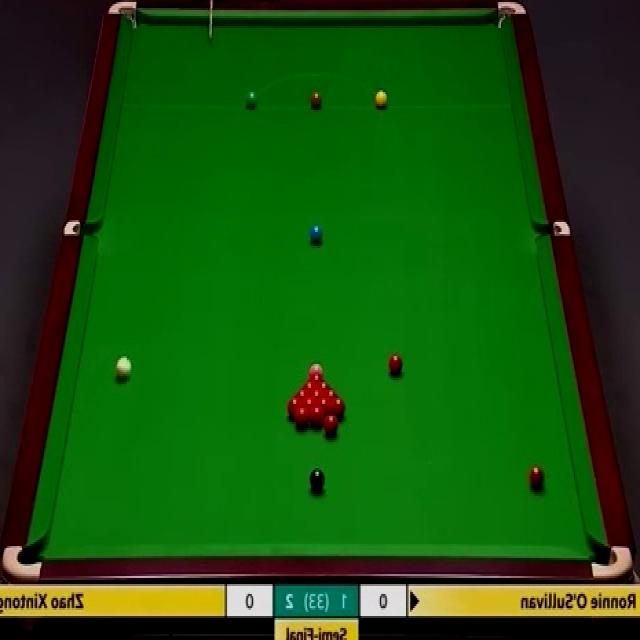black-ball: (309, 468, 325, 492)
blue-ball: (308, 223, 324, 246)
brown-ball: (310, 91, 322, 110)
green-ball: (246, 90, 258, 109)
pink-ball: (308, 361, 323, 375)
red-ball: (529, 463, 544, 490), (388, 353, 404, 377), (294, 406, 309, 430), (309, 406, 325, 428), (324, 414, 338, 437), (330, 398, 345, 418), (287, 398, 301, 418), (321, 388, 339, 399), (317, 399, 329, 415), (301, 381, 317, 391), (293, 390, 310, 398), (303, 398, 316, 408), (316, 381, 332, 389), (308, 374, 324, 382), (309, 390, 322, 399)
white-ball: (115, 356, 132, 380)
yellow-ball: (376, 88, 387, 110)
